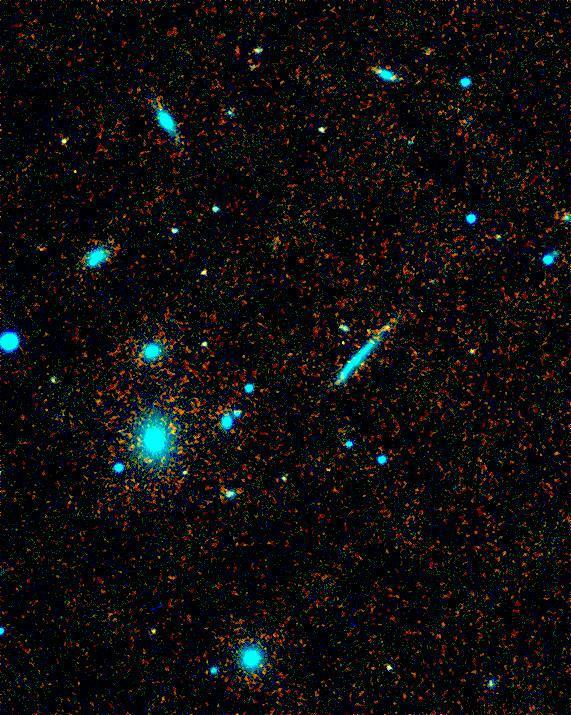star: (139, 614, 169, 644)
